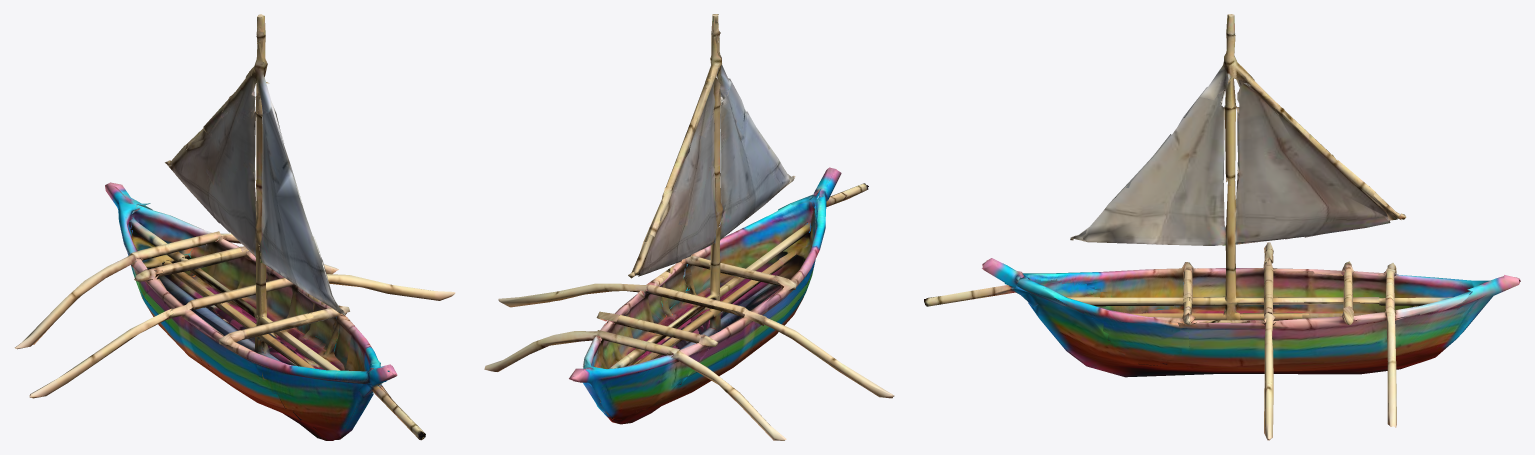
Rendered from jukung.glb.
3 renders of one model, left to right at view 1: azimuth 30°, elevation 25°; view 2: azimuth 150°, elevation 25°; view 3: azimuth 270°, elevation 25°, orthographic. The views are drawn at different scales.
Visible parts, largest first — view 1: model; view 2: model; view 3: model.
Part boxes in pixels (x1,y1,x2,y2): model: [14, 14, 455, 440]; model: [484, 14, 894, 440]; model: [924, 14, 1520, 440].
Bounding box in the file's own units: 1.17 × 1 × 1.49.
Materials: 1 (1 with a texture image).
